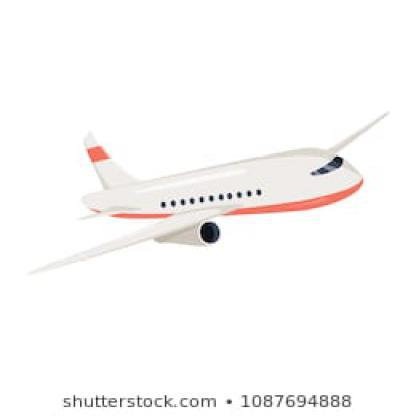CIV_Plane: (39, 111, 391, 269)
